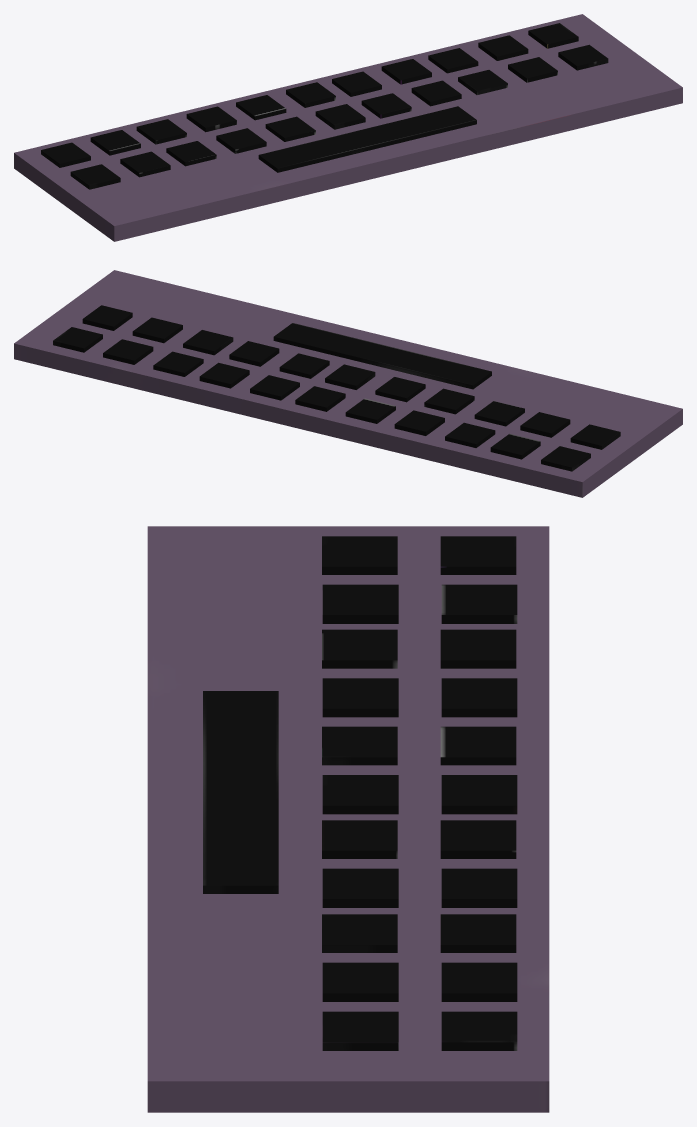
The model's file is keyboard exp resend.fbx.
3 views of the same model, one above another, from view 1: azimuth 30°, elevation 25°; view 2: azimuth 150°, elevation 25°; view 3: azimuth 270°, elevation 25° (orthographic). The views are drawn at different scales.
Visible parts, largest first — view 1: Box009; view 2: Box009; view 3: Box009.
Part boxes in pixels (box(x1,y1,x2,y2)): Box009: box(14, 14, 682, 241); Box009: box(14, 270, 682, 497); Box009: box(147, 526, 549, 1112).
Size of the model in its own units: 12.82 by 0.434 by 3.92.
